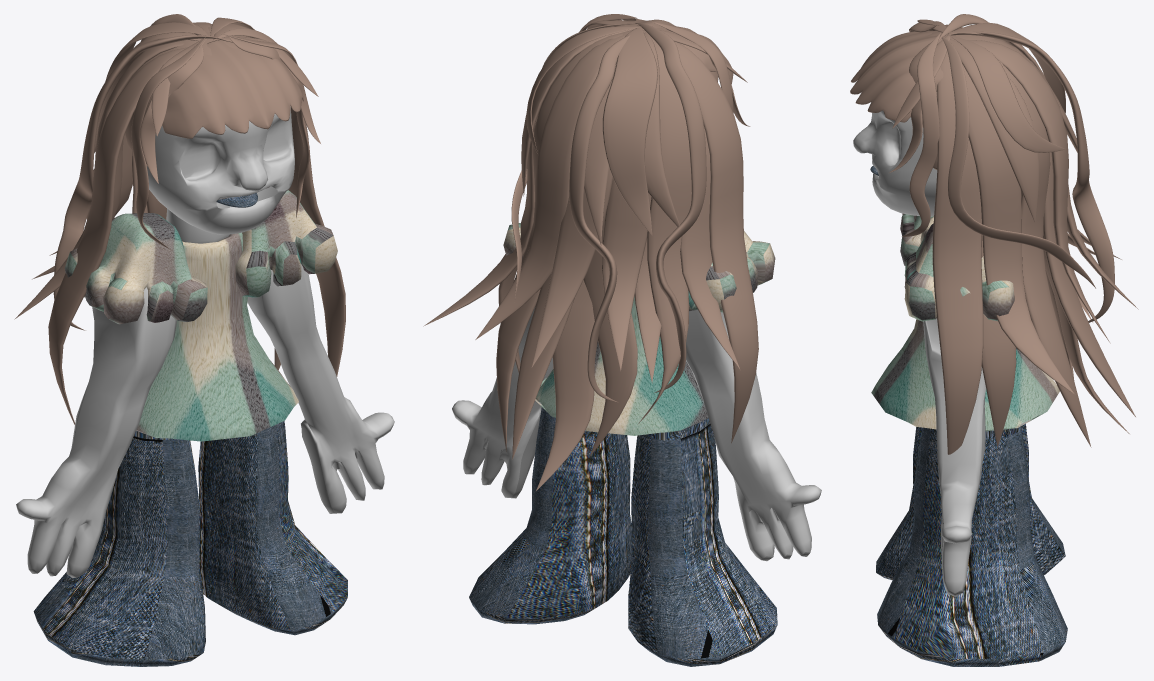
Rendered from rig practice 2.fbx.
3 renders of one model, left to right at view 1: azimuth 30°, elevation 25°; view 2: azimuth 150°, elevation 25°; view 3: azimuth 270°, elevation 25°, orthographic. The views are drawn at different scales.
Parts seen in each view (by area): view 1: polySurface11; view 2: polySurface11; view 3: polySurface11.
Part boxes in pixels (box(x1,y1,x2,y2)): polySurface11: box(14, 14, 394, 666); polySurface11: box(423, 14, 821, 666); polySurface11: box(850, 14, 1138, 666).
Size of the model in its own units: 8.09 by 12.27 by 5.62.
